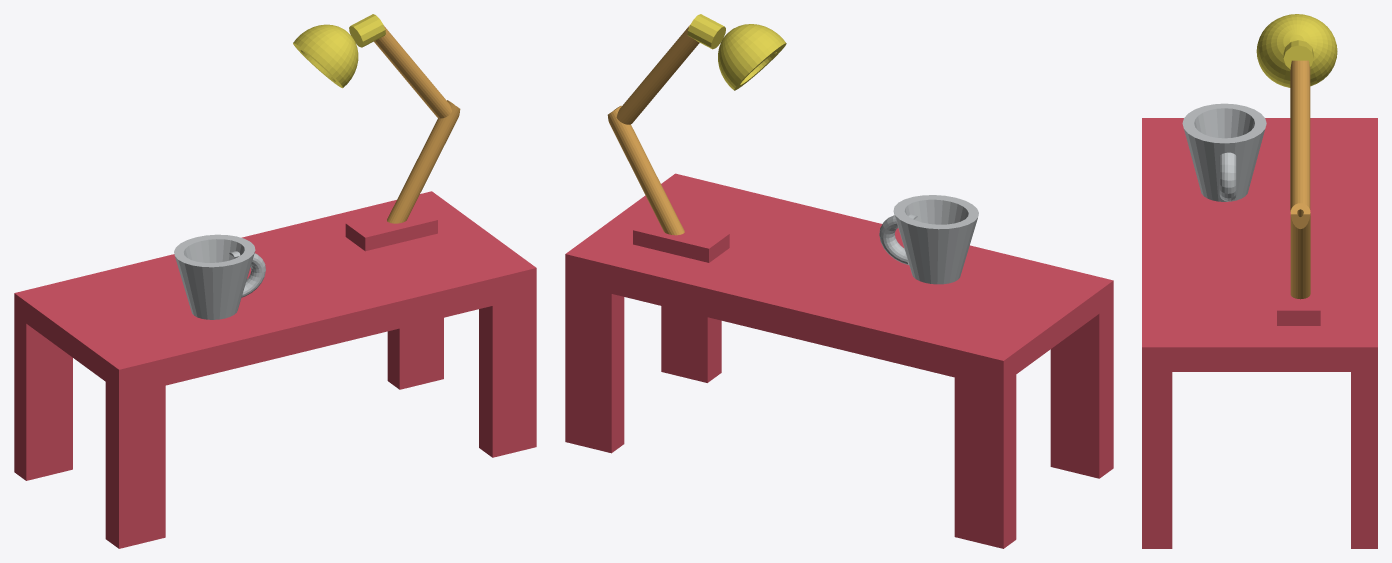
File: Daring Snicket-Jaagub.glb
The picture shows the model from 3 angles, left to right: view 1: azimuth 30°, elevation 25°; view 2: azimuth 150°, elevation 25°; view 3: azimuth 270°, elevation 25°; orthographic projection. The views are drawn at different scales.
Parts seen in each view (by area): view 1: Mesh_Mesh_head_geo.001_lambert2SG.001; view 2: Mesh_Mesh_head_geo.001_lambert2SG.001; view 3: Mesh_Mesh_head_geo.001_lambert2SG.001.
Part boxes in pixels (x1=…): Mesh_Mesh_head_geo.001_lambert2SG.001: x1=14, y1=14, x2=536, y2=548; Mesh_Mesh_head_geo.001_lambert2SG.001: x1=565, y1=14, x2=1113, y2=548; Mesh_Mesh_head_geo.001_lambert2SG.001: x1=1142, y1=14, x2=1377, y2=548.
Size of the model in its own units: 161 by 149 by 70.
